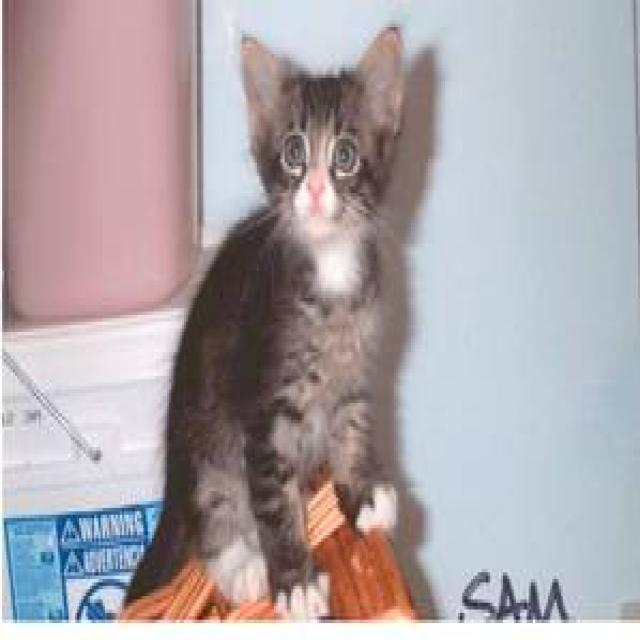cat: (116, 20, 413, 620)
